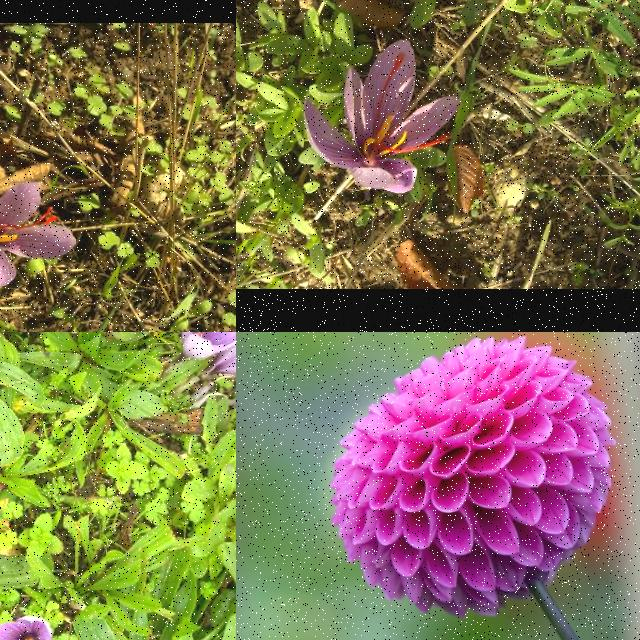flower: (302, 40, 463, 194), (0, 140, 75, 290)
overlap: (180, 332, 236, 375)
